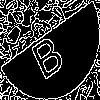B: (25, 25, 67, 81)
